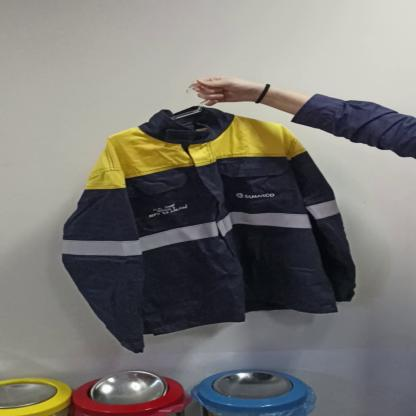C_eletrica: (59, 107, 369, 339)
